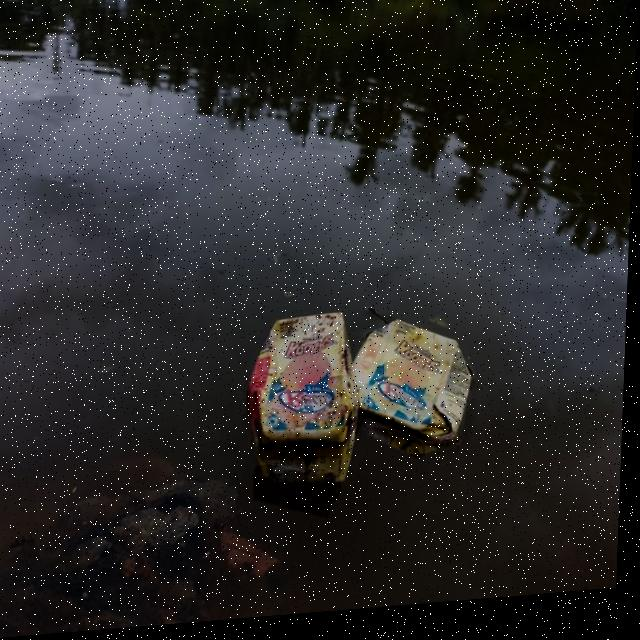paper: (346, 314, 485, 469), (250, 314, 361, 475)
